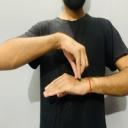hand: (58, 34, 89, 80), (42, 72, 90, 98)
